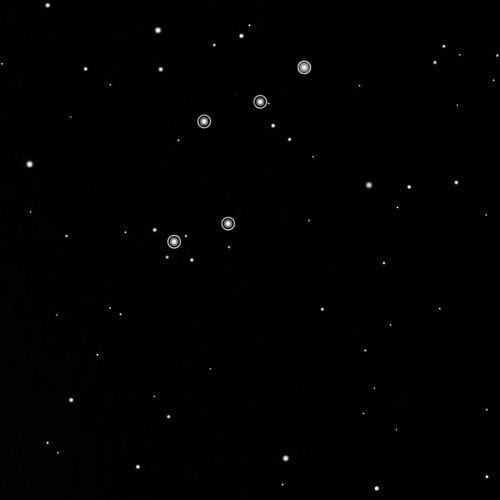lyra: (162, 55, 314, 253)
